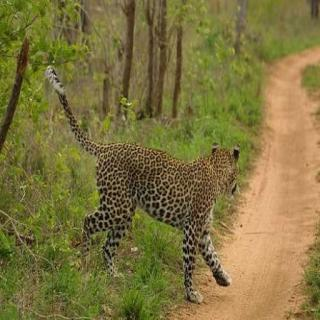Leopard: (36, 62, 264, 291)
